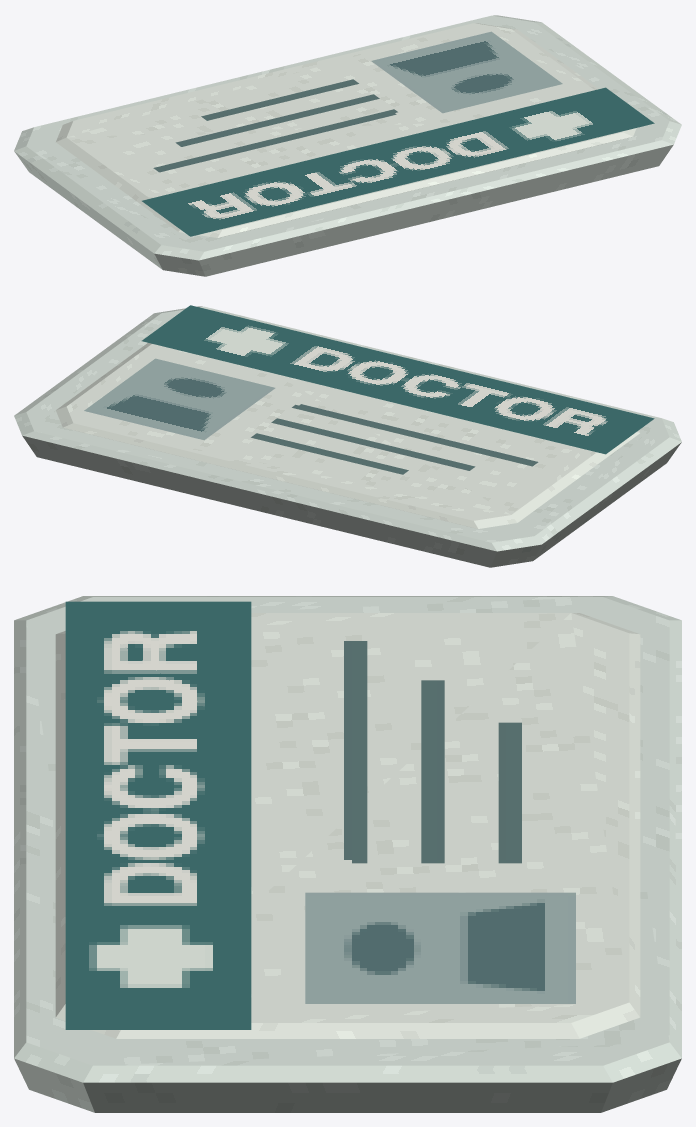
File: badge_doctor.glb
The picture shows the model from 3 angles, top to bottom: view 1: azimuth 30°, elevation 25°; view 2: azimuth 150°, elevation 25°; view 3: azimuth 270°, elevation 25°; orthographic projection. The views are drawn at different scales.
Parts seen in each view (by area): view 1: block_recessed face, block_original printed emblem, block_beveled badge body; view 2: block_recessed face, block_original printed emblem, block_beveled badge body; view 3: block_recessed face, block_original printed emblem, block_beveled badge body.
Part boxes in pixels (x1,y1,x2,y2): block_recessed face: [56, 23, 636, 237]; block_original printed emblem: [142, 31, 654, 236]; block_beveled badge body: [14, 15, 681, 276]; block_recessed face: [56, 343, 639, 528]; block_original printed emblem: [84, 305, 654, 474]; block_beveled badge body: [14, 306, 681, 567]; block_recessed face: [55, 613, 640, 1038]; block_original printed emblem: [65, 601, 575, 1029]; block_beveled badge body: [14, 596, 681, 1112].
Bounding box in the file's own units: 0.0667 × 0.0057 × 0.0387.
Materials: 2 (2 with a texture image).
